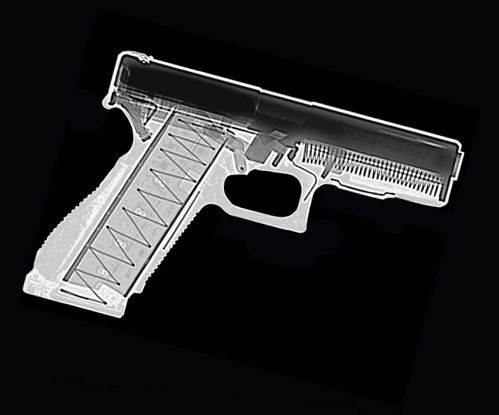gun: (23, 34, 466, 307)
